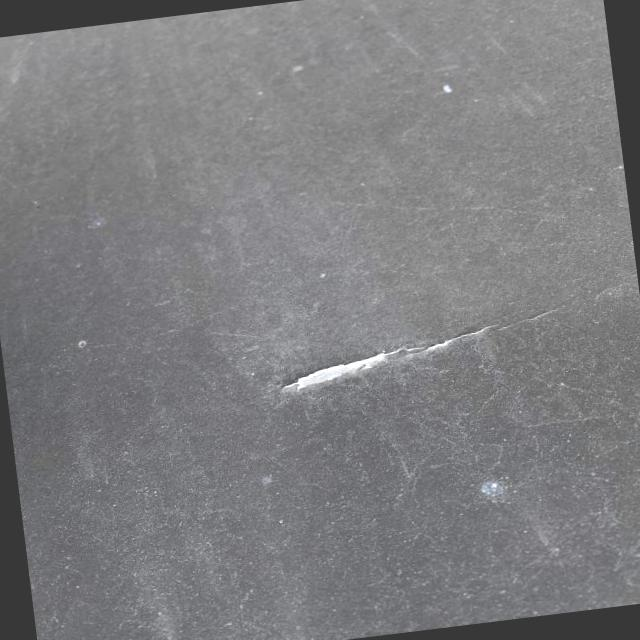crack: (264, 302, 562, 404)
